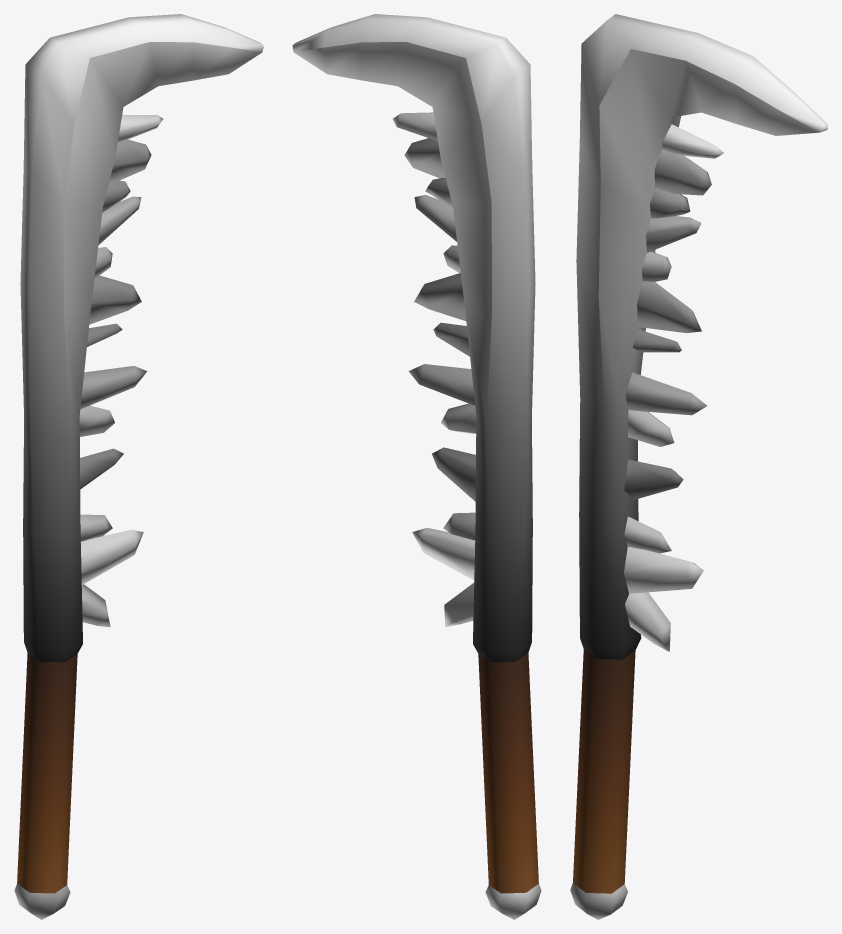
File: Sword1h_17.fbx
3 views of the same model, side by side, from view 1: azimuth 30°, elevation 25°; view 2: azimuth 150°, elevation 25°; view 3: azimuth 330°, elevation 25° (orthographic). The views are drawn at different scales.
Parts seen in each view (by area): view 1: Sword1h_17; view 2: Sword1h_17; view 3: Sword1h_17.
Part boxes in pixels (x1,y1,x2,y2): Sword1h_17: (14, 14, 263, 919); Sword1h_17: (292, 14, 541, 919); Sword1h_17: (570, 14, 827, 919).
Bounding box in the file's own units: 26.04 × 90.11 × 5.9.
